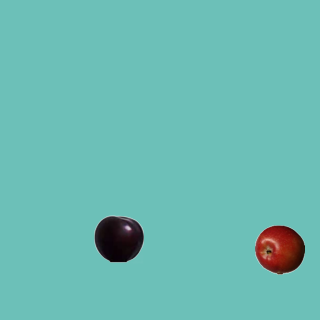Apple Braeburn: (254, 224, 304, 274)
Cherry Wax Black: (93, 213, 143, 263)
